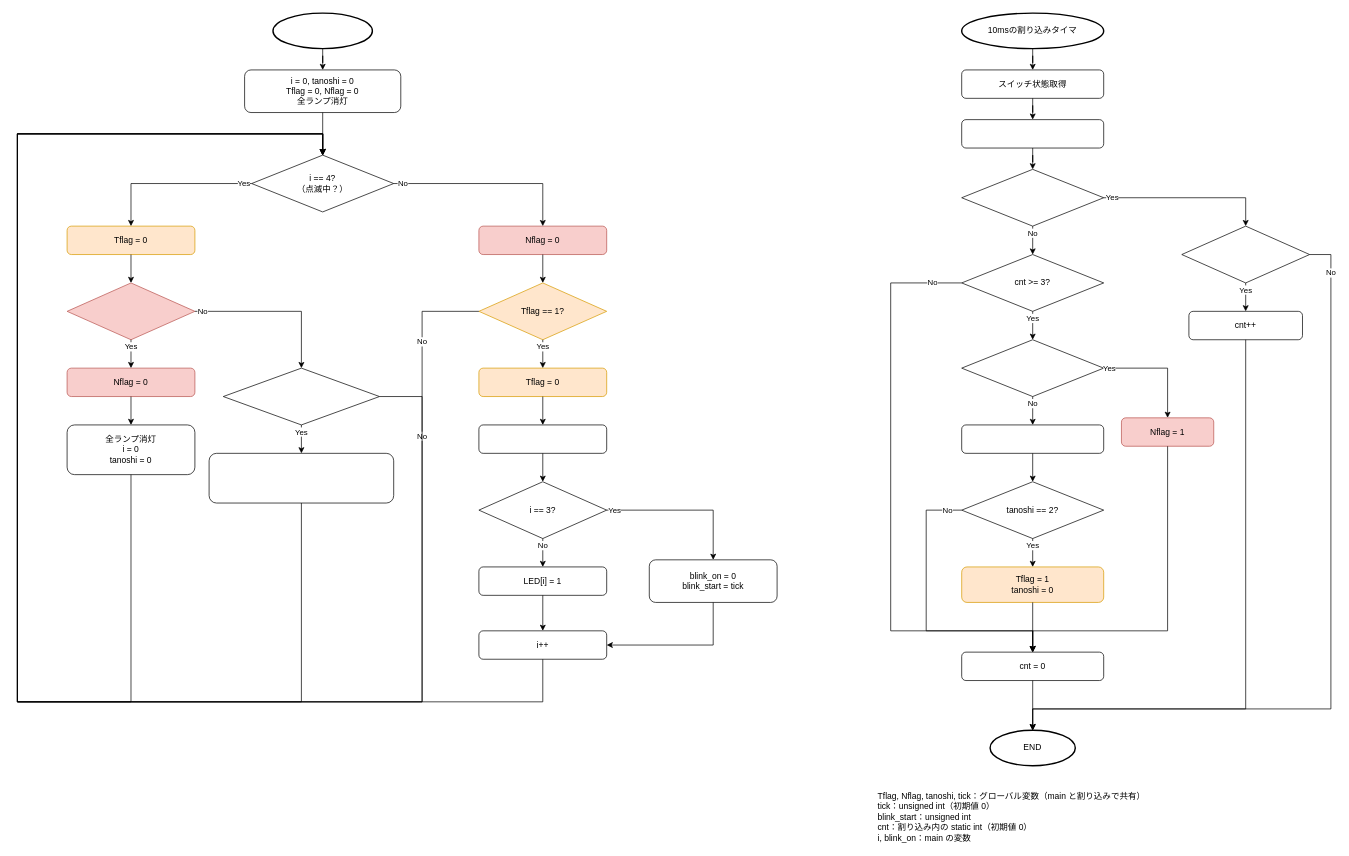
The diagram is 1349 pixels wide and 856 high, and some of its shapes have lost their labels. The centre of each missing label's shape, as x and y in pixels:
"blink_start = tick blink_on = 1 - blink_on LED[0], LED[1], LED[2] = blink_on" belongs at point (301, 478).
"cnt < 300?" belongs at point (1245, 254).
"cnt >= 300?" belongs at point (1032, 368).
"main" belongs at point (322, 30).
"Nflag == 1?" belongs at point (130, 311).
"SW == 1?" belongs at point (1032, 197).
"tanoshi++" belongs at point (1032, 438).
"tick - blink_start >= 50?" belongs at point (301, 396).
"tick++" belongs at point (1032, 133).
"全ランプ消灯" belongs at point (542, 438).
